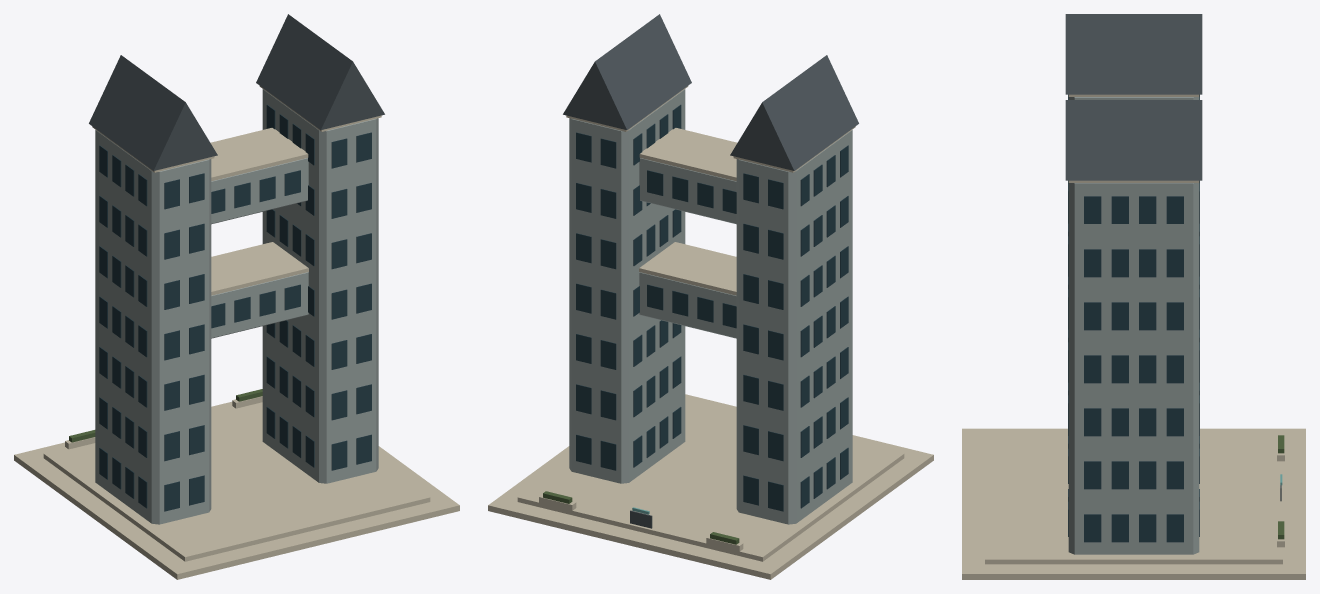
File: special.glb
The picture shows the model from 3 angles, left to right: view 1: azimuth 30°, elevation 25°; view 2: azimuth 150°, elevation 25°; view 3: azimuth 270°, elevation 25°; orthographic projection. The views are drawn at different scales.
Visible parts, largest first — view 1: twin-towers, windows, plinth, crown, foundation, roof-slabs, skybridges; view 2: twin-towers, windows, plinth, crown, foundation, roof-slabs, skybridges; view 3: twin-towers, plinth, crown, windows, foundation, roof-slabs.
Boxes of the visible parts, bbox=[...] form: twin-towers: bbox=[95, 89, 378, 524]; windows: bbox=[99, 104, 371, 511]; plinth: bbox=[43, 402, 430, 561]; crown: bbox=[89, 14, 384, 170]; foundation: bbox=[14, 401, 459, 579]; roof-slabs: bbox=[92, 86, 381, 295]; skybridges: bbox=[211, 158, 308, 338]; twin-towers: bbox=[569, 89, 852, 524]; windows: bbox=[576, 104, 848, 511]; plinth: bbox=[517, 400, 904, 561]; crown: bbox=[563, 14, 858, 170]; foundation: bbox=[488, 394, 933, 579]; roof-slabs: bbox=[566, 86, 855, 295]; skybridges: bbox=[639, 158, 736, 338]; twin-towers: bbox=[1068, 97, 1199, 554]; plinth: bbox=[985, 433, 1282, 564]; crown: bbox=[1065, 14, 1202, 180]; windows: bbox=[1068, 94, 1199, 542]; foundation: bbox=[962, 428, 1305, 579]; roof-slabs: bbox=[1068, 94, 1199, 182].
Size of the model in its own units: 15.52 by 22.44 by 15.52.
